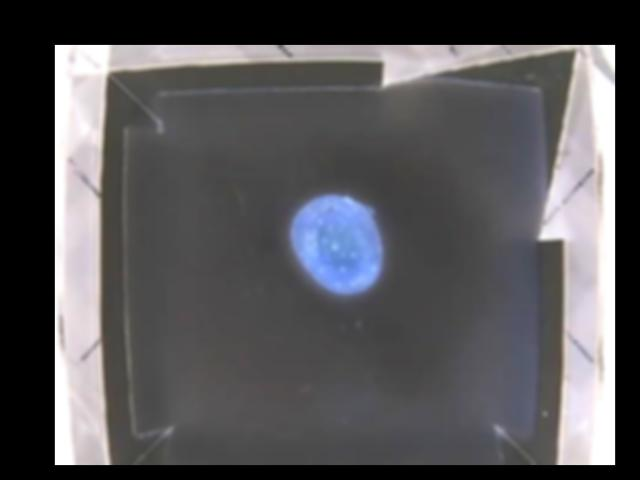Potato: (286, 194, 383, 293)
